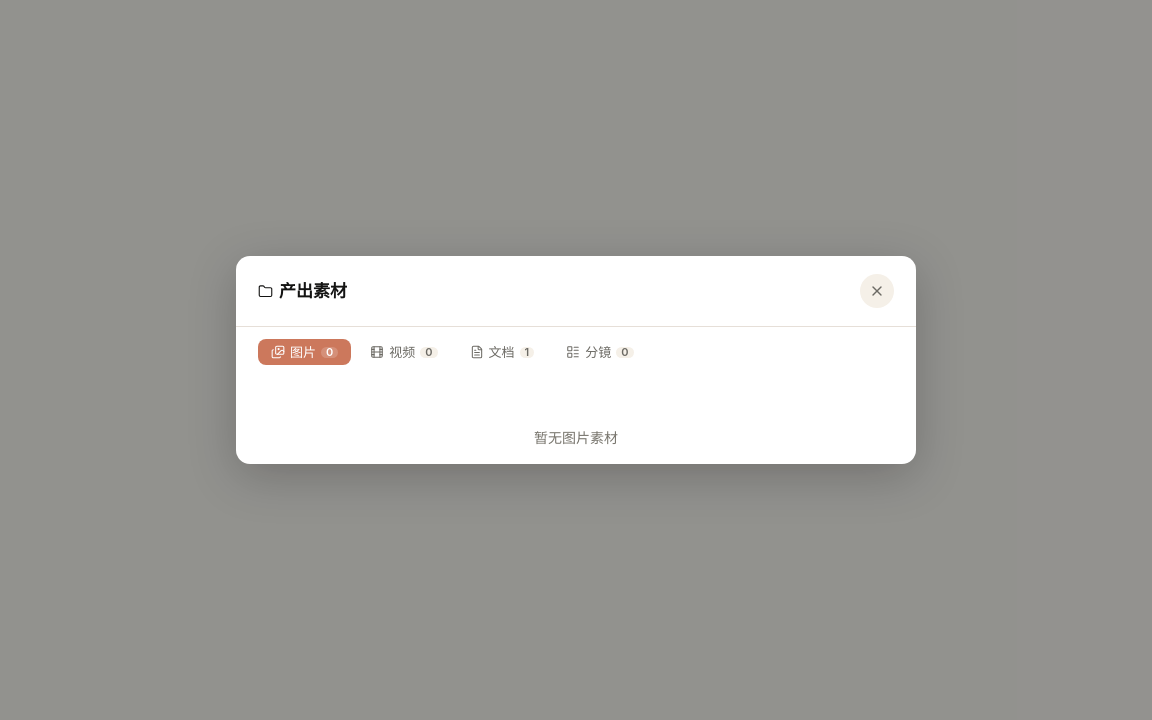
Test: AgentAssetsPanel asset tiles › omits 去画布编辑 for documents but keeps the rest of the menu
The image size is (1152, 720).
Click the button "文档 1" at (502, 352), box [457,339,547,365]
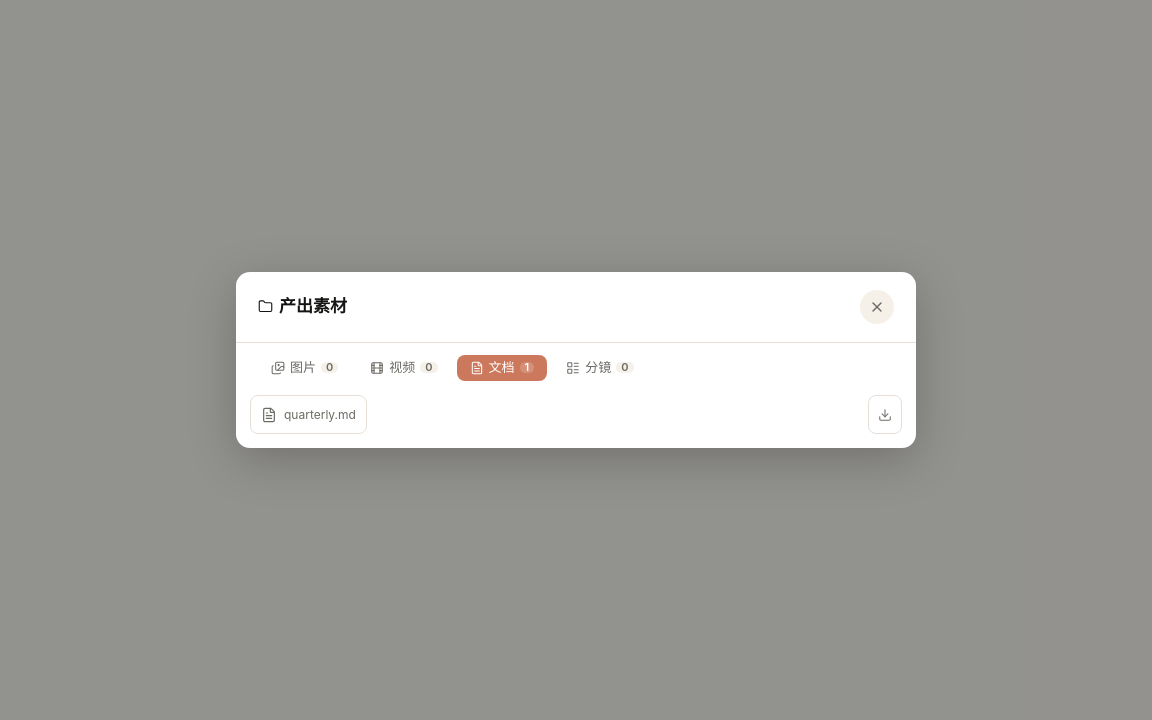
Right-click the button with aria-label "打开 quarterly.md" at (308, 414), box [250,395,367,434]
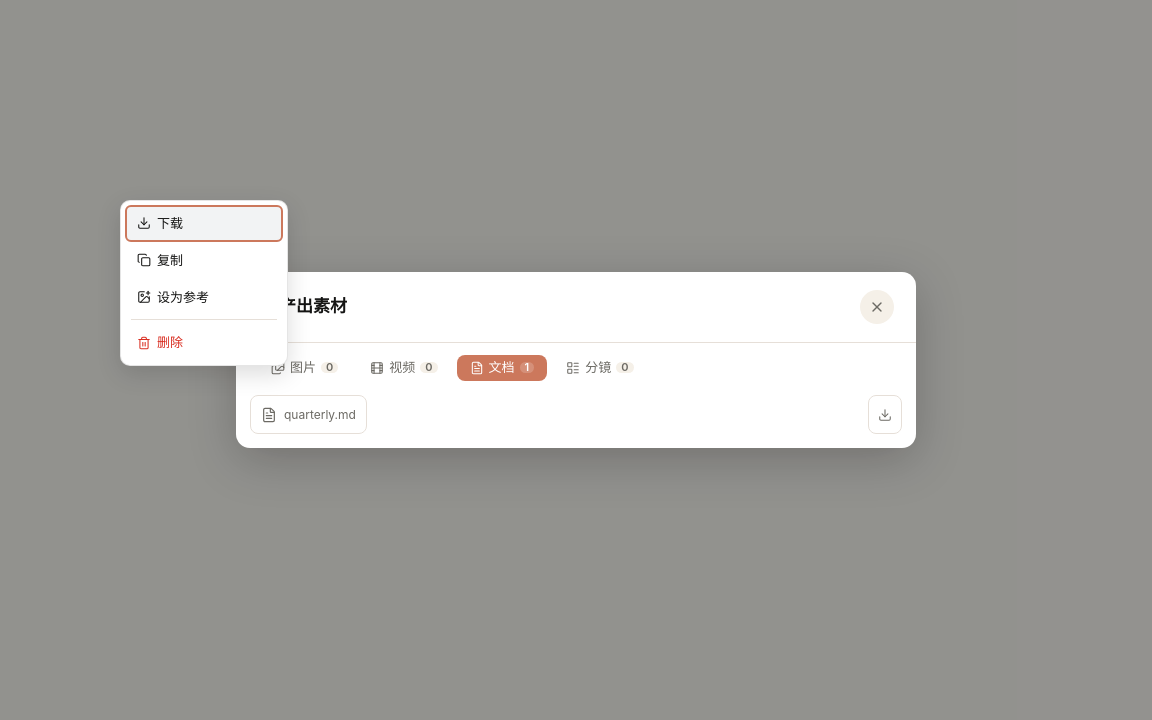
expect the button "删除" is shown: met, box [125,324,283,361]
